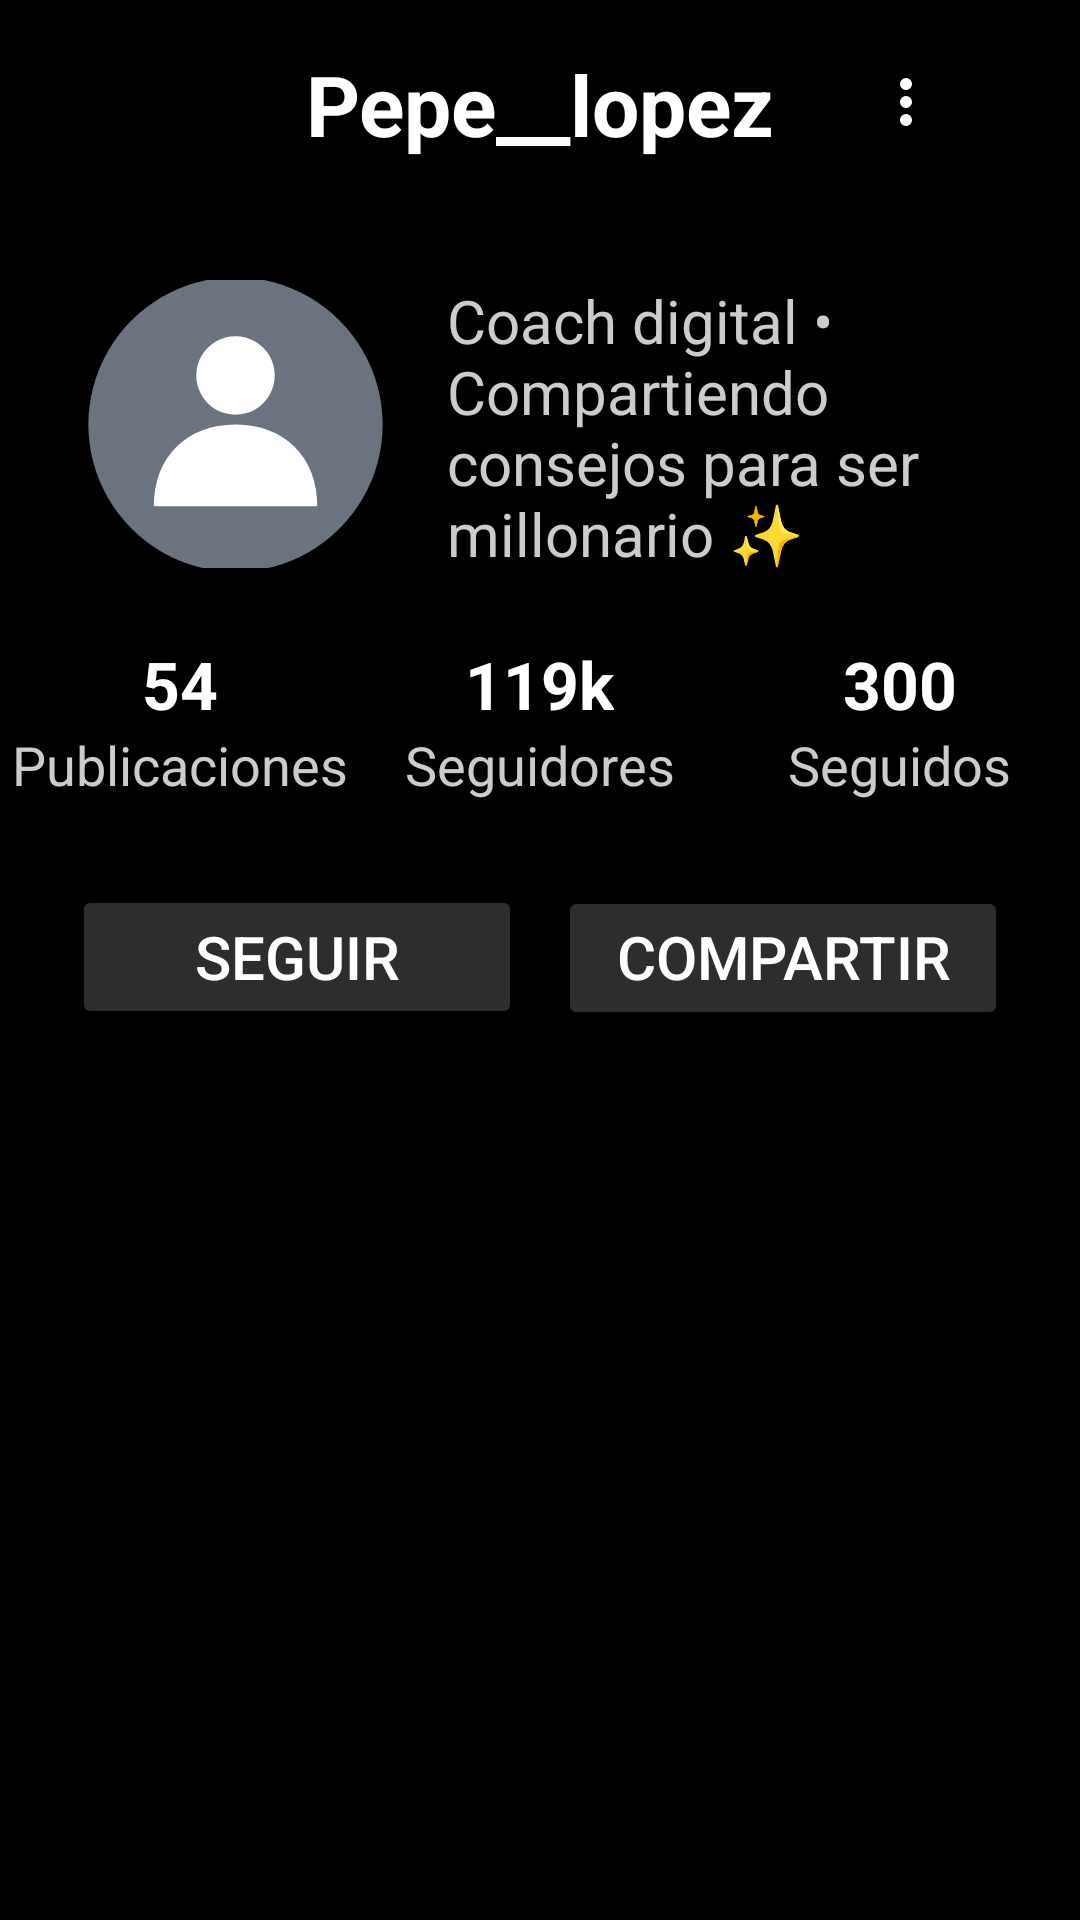

Screen size 1080w x 1920h. Icon name, then its center in pixels as (x=x, y=y):
Foto de perfil: (x=235, y=424)
Más opciones: (x=906, y=102)
